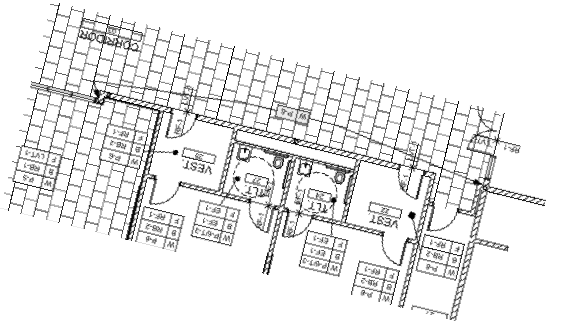door: (244, 194, 280, 237), (162, 107, 201, 144), (377, 228, 412, 269), (426, 200, 463, 234), (396, 162, 426, 203), (148, 175, 184, 209), (281, 207, 314, 241)
double door: (462, 100, 506, 160)
